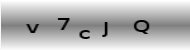7: (56, 16, 71, 30)
J: (100, 20, 109, 37)
Q: (132, 18, 151, 34)
c: (78, 28, 92, 39)
v: (25, 22, 40, 33)
